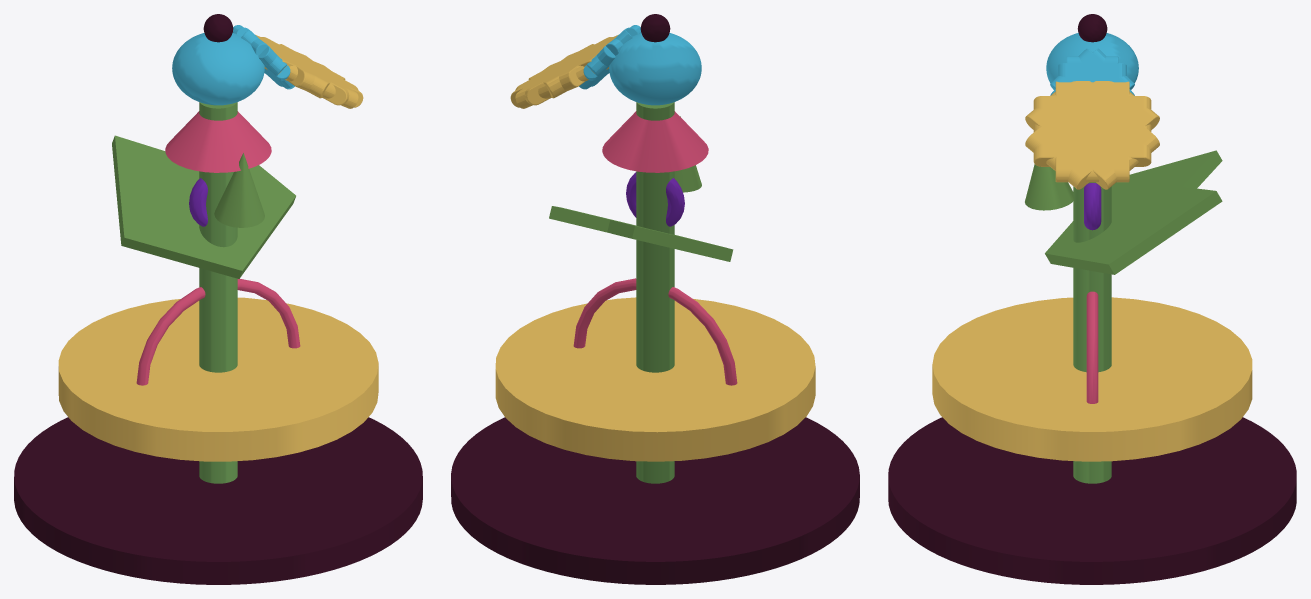
File: 0098_植物图鉴_樱桃.glb
3 renders of one model, left to right at view 1: azimuth 30°, elevation 25°; view 2: azimuth 150°, elevation 25°; view 3: azimuth 270°, elevation 25°, orthographic.
Visible parts, largest first — view 1: card_0098; view 2: card_0098; view 3: card_0098.
Part boxes in pixels (bbox=[...]): card_0098: bbox=[14, 14, 422, 584]; card_0098: bbox=[451, 14, 859, 584]; card_0098: bbox=[888, 14, 1296, 584].
Size of the model in its own units: 0.7665 by 1 by 0.7664.
